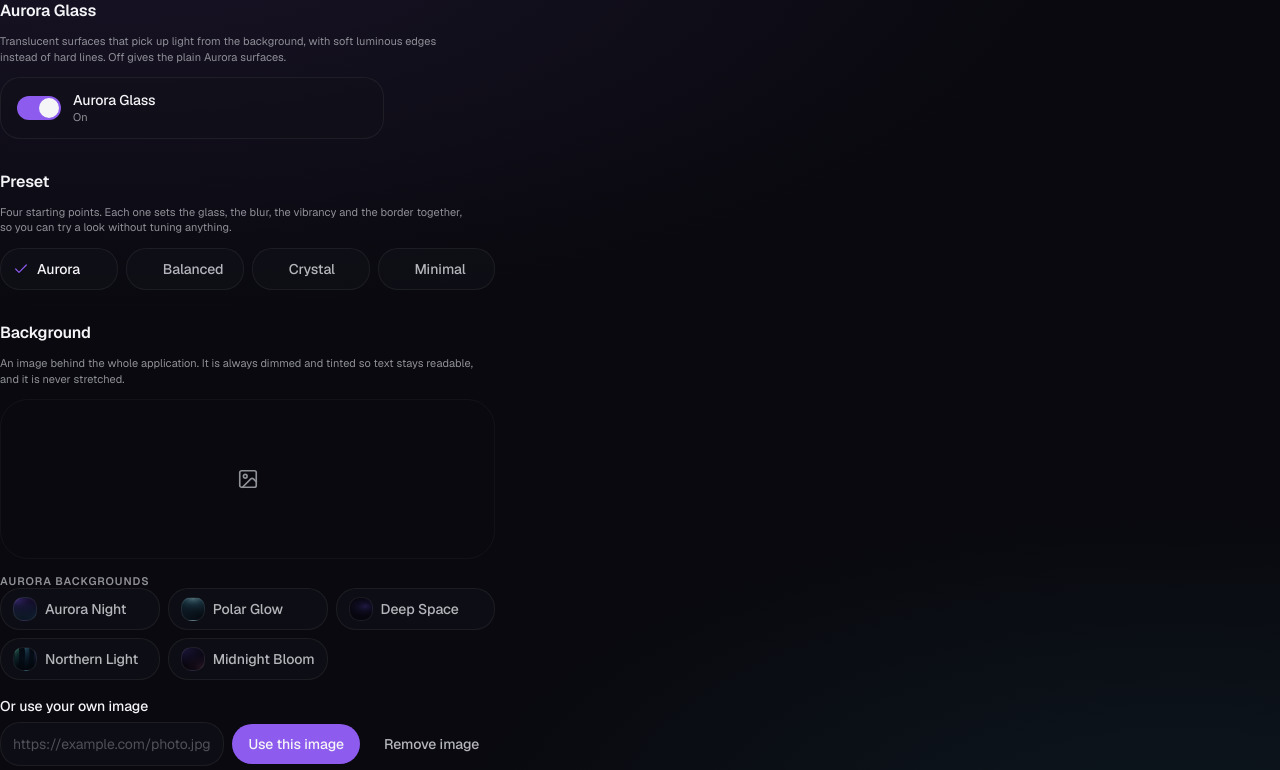
Test case: the background URL field › refuses credentials in the address
Type "https://user:pw@img.test/a.jpg" into the field with test id "background-url". click: [112, 744]
box: [0,722,224,766]
Then press Enter
(page scrolled)
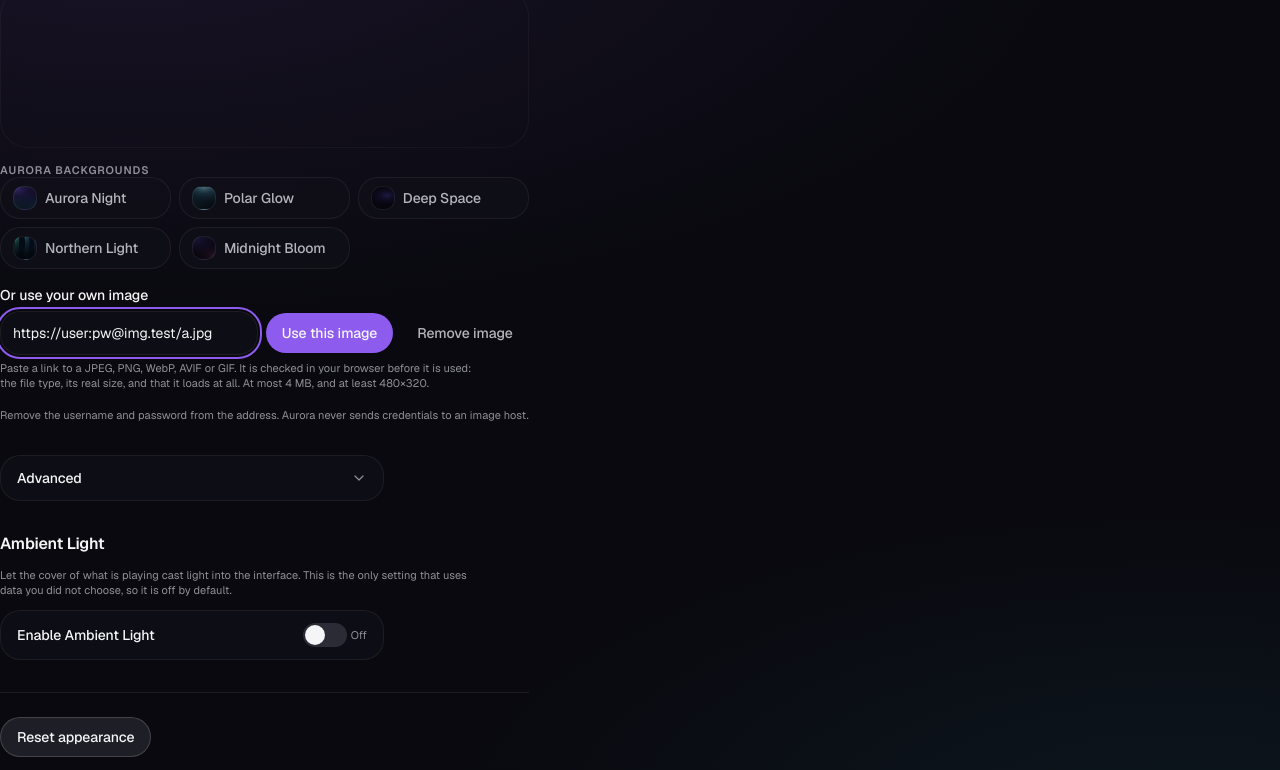
Check: the message with test id "background-error" is shown, box [0,408,529,423]
